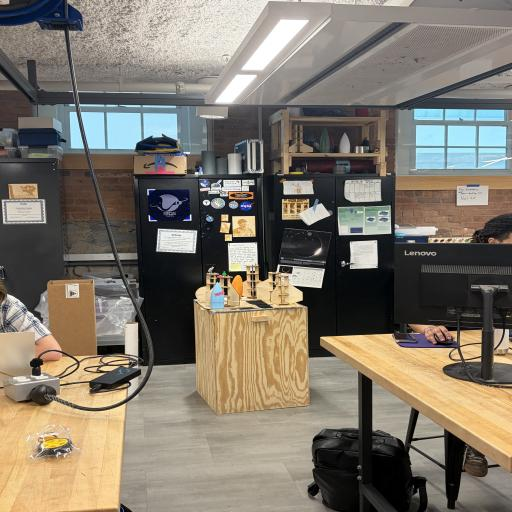Green-Lego: (221, 271, 228, 277)
